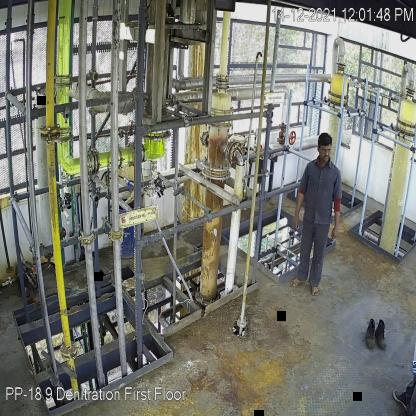no_shoes: (288, 277, 306, 287), (308, 285, 320, 299)
shoes: (364, 317, 379, 351), (376, 320, 388, 349)
